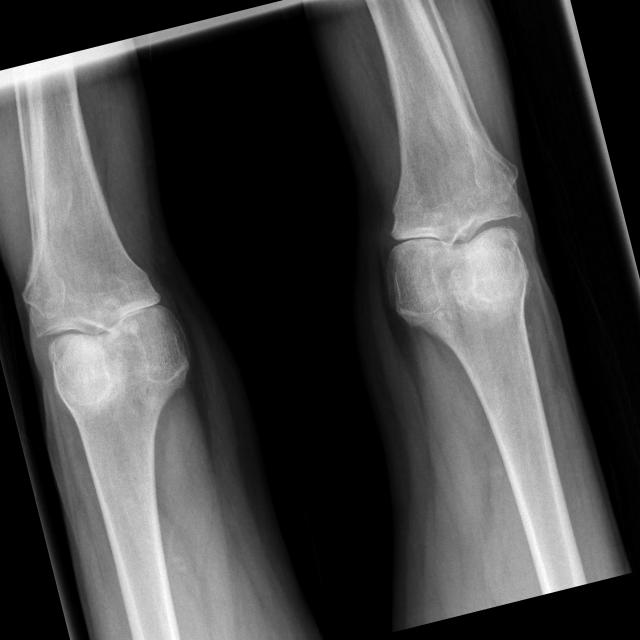Knee: (18, 239, 201, 416), (368, 164, 548, 332)
